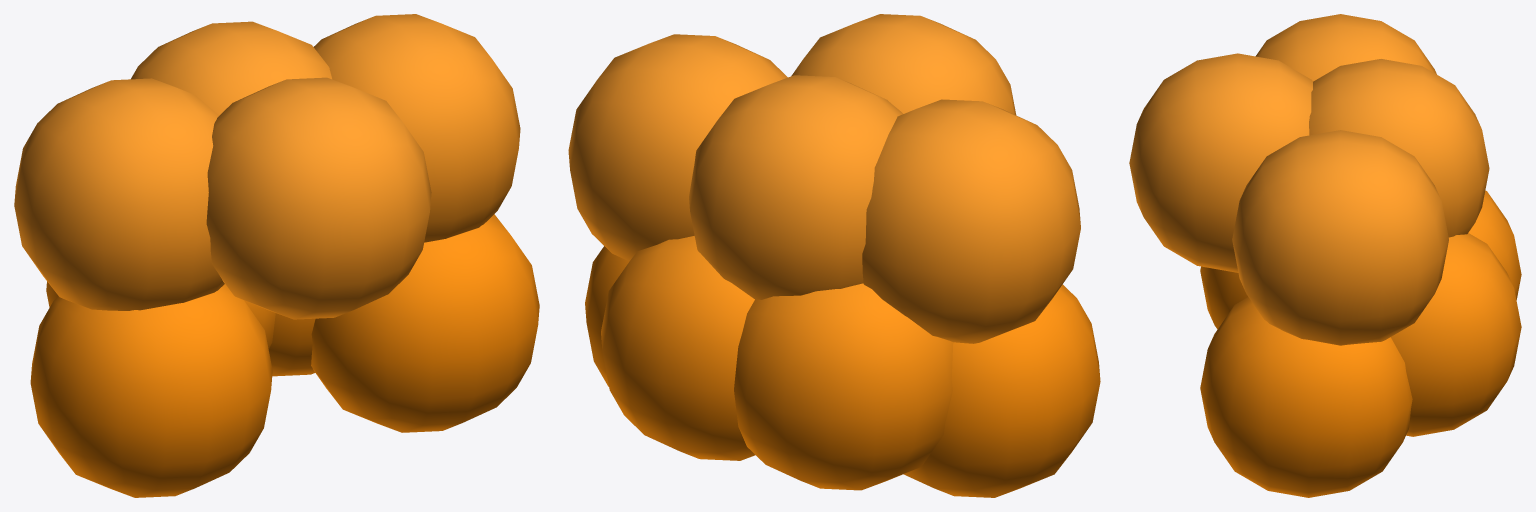
File: Hair_16_C02.fbx
3 views of the same model, side by side, from view 1: azimuth 30°, elevation 25°; view 2: azimuth 150°, elevation 25°; view 3: azimuth 270°, elevation 25° (orthographic). The views are drawn at different scales.
Visible parts, largest first — view 1: Hair_16_C02; view 2: Hair_16_C02; view 3: Hair_16_C02.
Part boxes in pixels (left/top/right/bottom): Hair_16_C02: left=14, top=14, right=539, bottom=497; Hair_16_C02: left=568, top=14, right=1100, bottom=497; Hair_16_C02: left=1129, top=14, right=1521, bottom=497.
Bounding box in the file's own units: 144 × 115 × 114.
